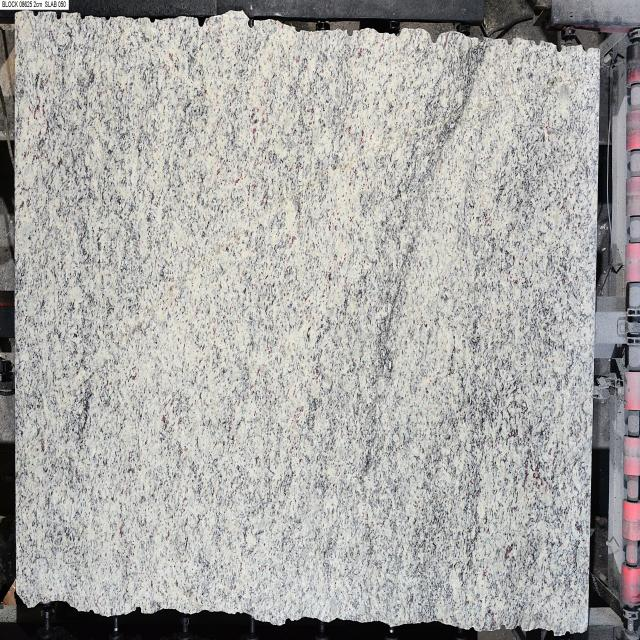chapa: (15, 13, 599, 634)
